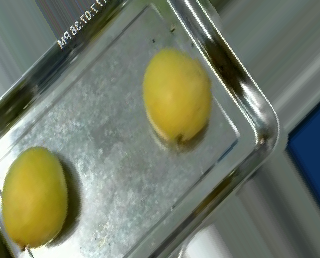Mango: (1, 146, 68, 247), (145, 48, 212, 143)
